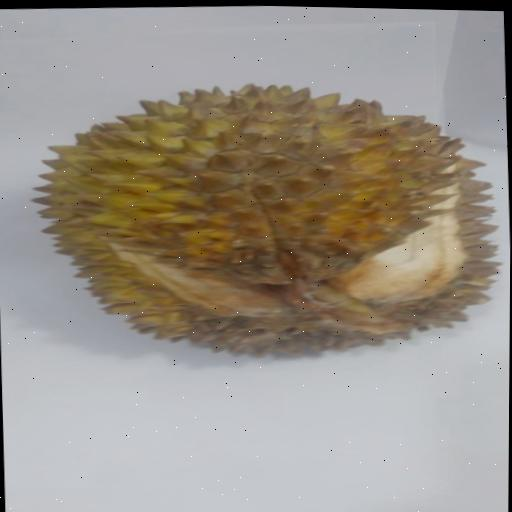rot: (0, 59, 512, 385)
